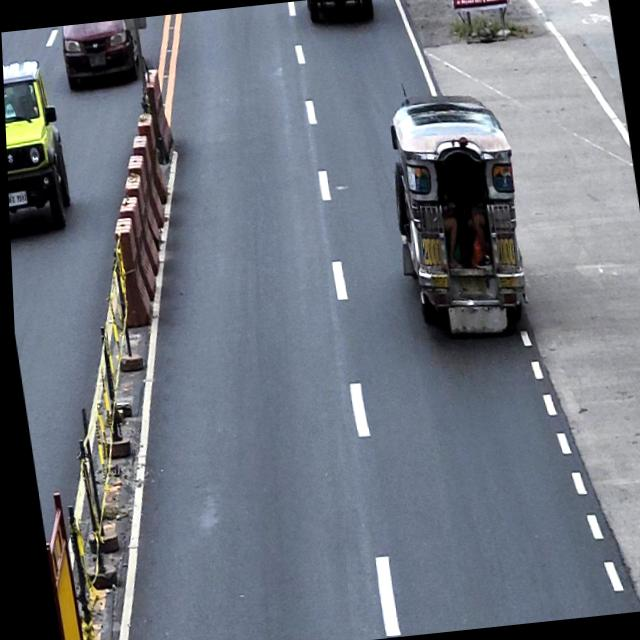Car: (2, 55, 75, 238), (58, 18, 146, 92)
Jeep: (379, 81, 537, 343)
License-Plate: (456, 272, 484, 294), (7, 189, 26, 205), (88, 52, 105, 68)
